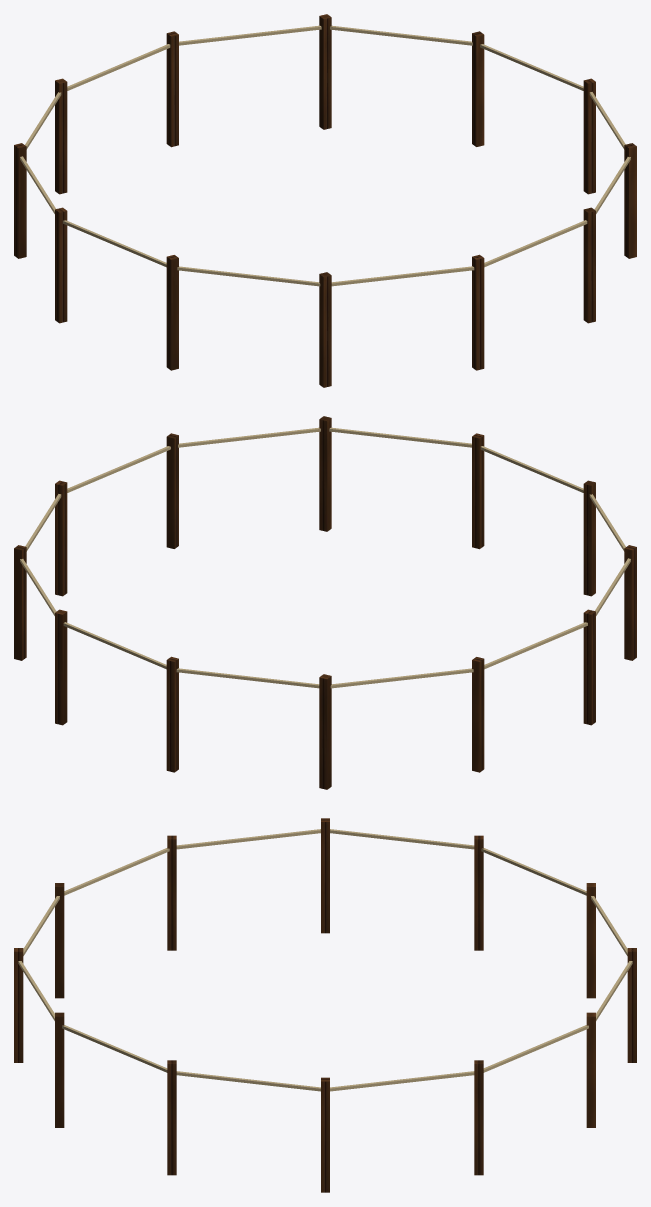
File: sparring_ring.glb
3 views of the same model, one above another, from view 1: azimuth 30°, elevation 25°; view 2: azimuth 150°, elevation 25°; view 3: azimuth 270°, elevation 25° (orthographic).
Parts seen in each view (by area): view 1: props_0_0; view 2: props_0_0; view 3: props_0_0.
Boxes of the visible parts, x1,y1,x2,y2 form: props_0_0: (14,14,636,387); props_0_0: (14,416,636,789); props_0_0: (14,818,636,1192).
Size of the model in its own units: 8.12 by 1.6 by 8.12.
1 material, 1 textured.
